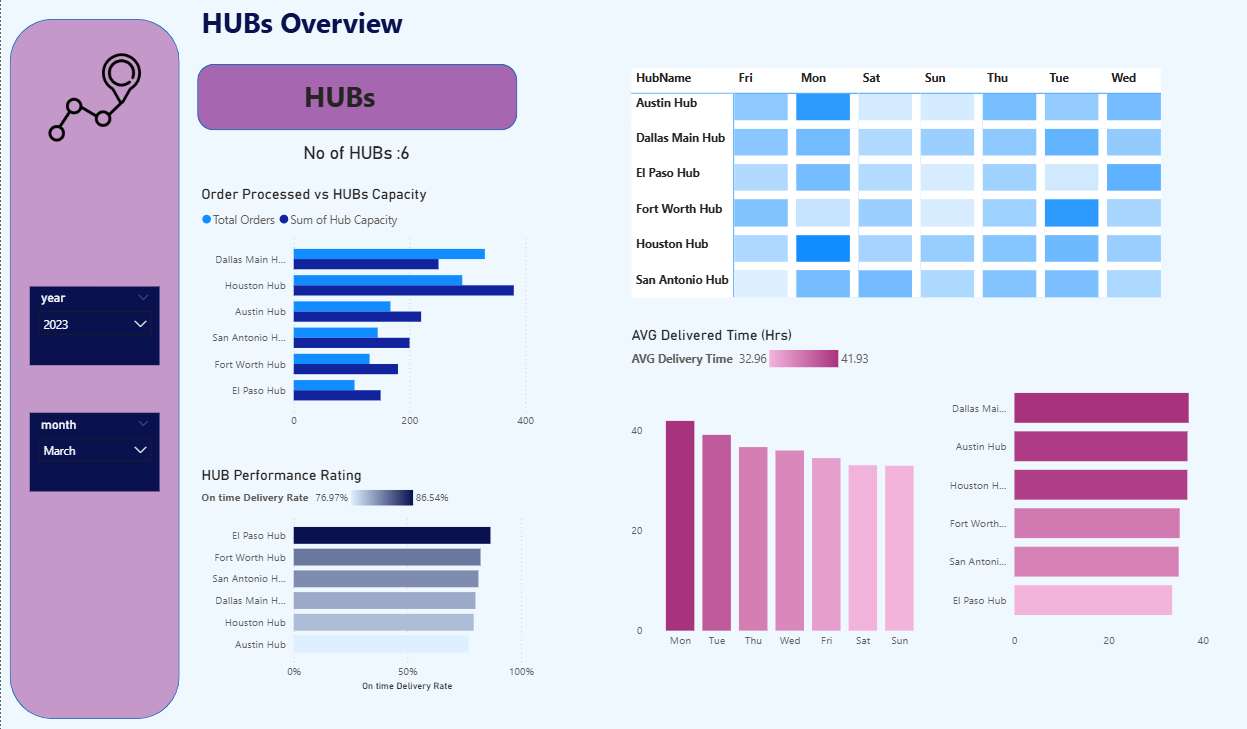

Layout of this report page (visuals, bound fields, positions):
{"tool":"powerbi","page":{"name":"HUBs","canvas":[1450,850],"ordinal":2},"visuals":[{"type":"shape","box":[9.7,22.6,196.8,811.3],"z":0},{"type":"textbox","box":[227.4,0,375.2,59.4],"z":1000},{"type":"slicer","fields":{"Values":["date tabel.year"]},"box":[33.3,333.2,150.6,91.3],"z":2000},{"type":"slicer","fields":{"Values":["date tabel.month"]},"box":[33.3,479.5,150.6,91.3],"z":3000},{"type":"shape","box":[227.4,75.3,370.8,76.8],"z":4000},{"type":"textbox","box":[346.2,85.5,134.7,57.9],"z":5000},{"type":"card","fields":{"Values":["Hubs.NO hubs"]},"box":[246.3,152.1,331.7,52.1],"z":6000},{"type":"clusteredBarChart","title":"Order Processed vs HUBs Capacity","fields":{"Category":["Hubs.HubName"],"Y":["Orders.Total Orders","Sum(Hubs.Hub Capacity)"]},"box":[227.4,215.8,395.5,291.2],"z":7000},{"type":"clusteredBarChart","title":"HUB Performance Rating","fields":{"Category":["Hubs.HubName"],"Y":["Orders.On time Delivery Rate"]},"box":[227.4,541.8,395.5,265.1],"z":8000},{"type":"pivotTable","fields":{"Rows":["Hubs.HubName"],"Columns":["date tabel.day"],"Values":["Orders.AVG Delivery Time"]},"box":[725.7,75.3,653.3,350.5],"z":9000},{"type":"clusteredColumnChart","title":"AVG Delivered Time (Hrs)","fields":{"Category":["date tabel.day"],"Y":["Orders.AVG Delivery Time"]},"box":[725.7,379.5,354.9,382.4],"z":10000},{"type":"clusteredBarChart","fields":{"Category":["Hubs.HubName"],"Y":["Orders.AVG Delivery Time"]},"box":[1080.6,425.9,324.5,336.1],"z":11000},{"type":"image","box":[55,56.5,107.2,115.9],"z":12000}]}

Visuals, with their boxes in screenshot pixels (x1, y1, x2, y2), scaled from the page's 1450x850 canvas onto the 1247x729 screenshot:
shape: [left=8, top=19, right=178, bottom=715]
textbox: [left=196, top=0, right=518, bottom=51]
slicer - date tabel.year: [left=29, top=286, right=158, bottom=364]
slicer - date tabel.month: [left=29, top=411, right=158, bottom=490]
shape: [left=196, top=65, right=514, bottom=130]
textbox: [left=298, top=73, right=414, bottom=123]
card - Hubs.NO hubs: [left=212, top=130, right=497, bottom=175]
"Order Processed vs HUBs Capacity" clusteredBarChart: [left=196, top=185, right=536, bottom=435]
"HUB Performance Rating" clusteredBarChart: [left=196, top=465, right=536, bottom=692]
pivotTable - Hubs.HubName x date tabel.day: [left=624, top=65, right=1186, bottom=365]
"AVG Delivered Time (Hrs)" clusteredColumnChart: [left=624, top=325, right=929, bottom=653]
clusteredBarChart - Hubs.HubName x Orders.AVG Delivery Time: [left=929, top=365, right=1208, bottom=654]
image: [left=47, top=48, right=139, bottom=148]
